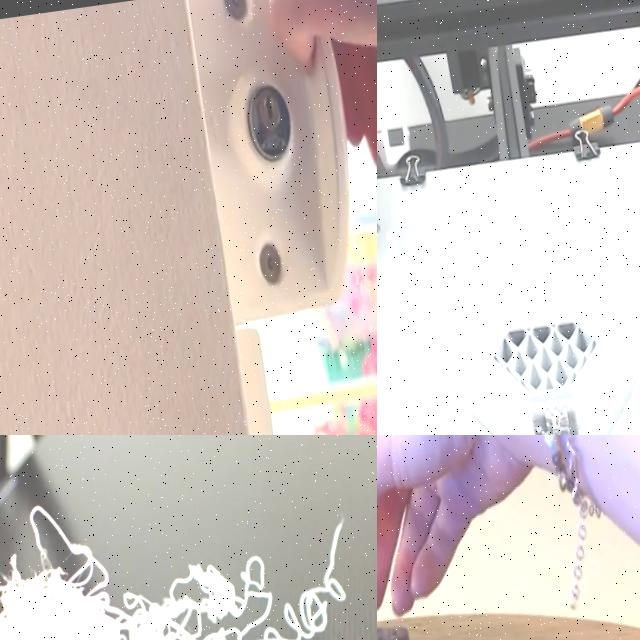spaghetti: (97, 502, 377, 640)
